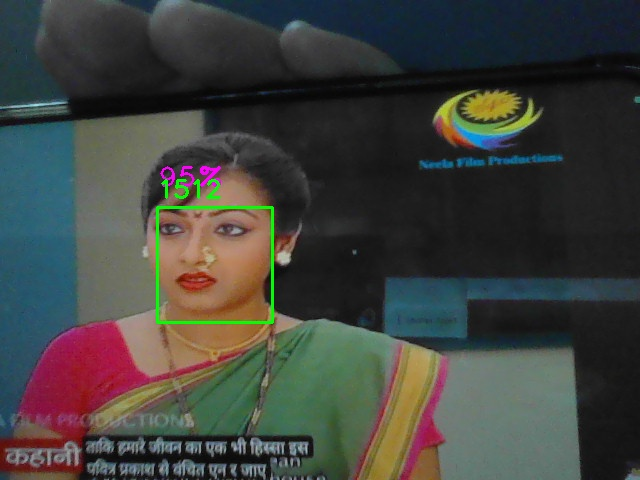fake: (157, 207, 273, 323)
